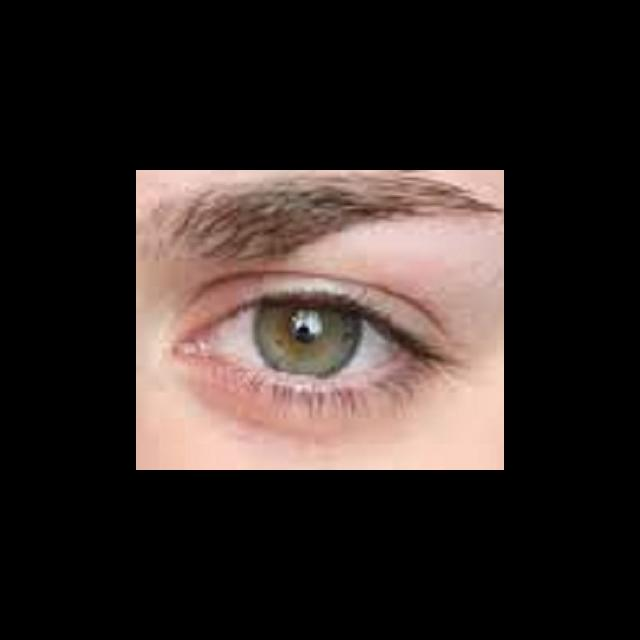eye: (207, 297, 410, 379)
iris: (254, 302, 364, 377)
